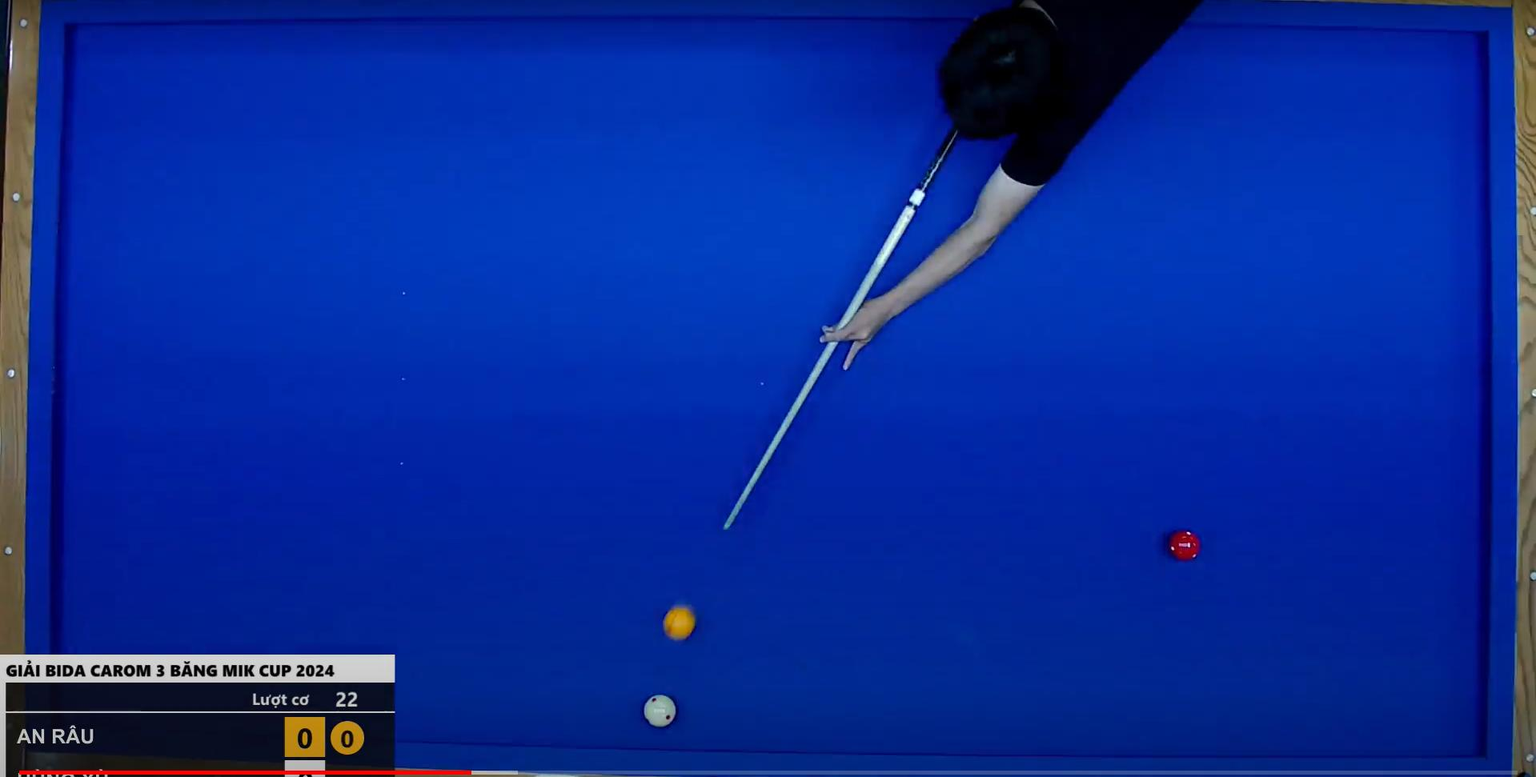red ball: (1160, 523, 1208, 570)
white ball: (638, 688, 684, 736)
yellow ball: (658, 602, 700, 648)
